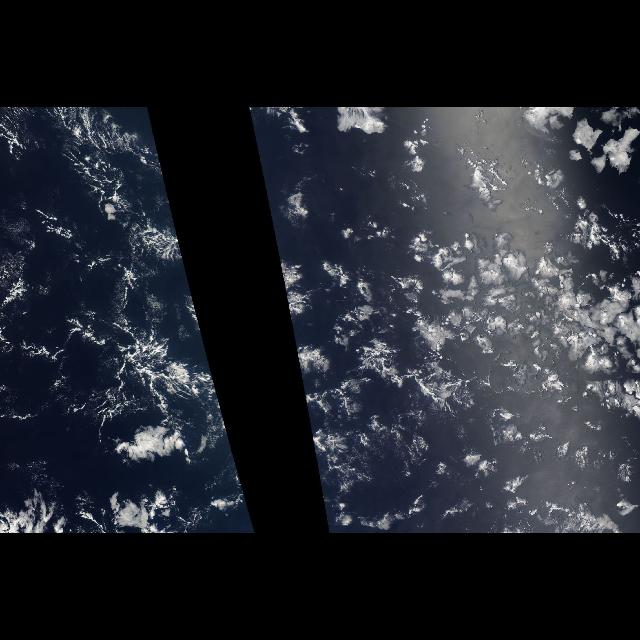Flower: (268, 212, 636, 454)
Sugar: (12, 112, 244, 490), (248, 112, 274, 234)
